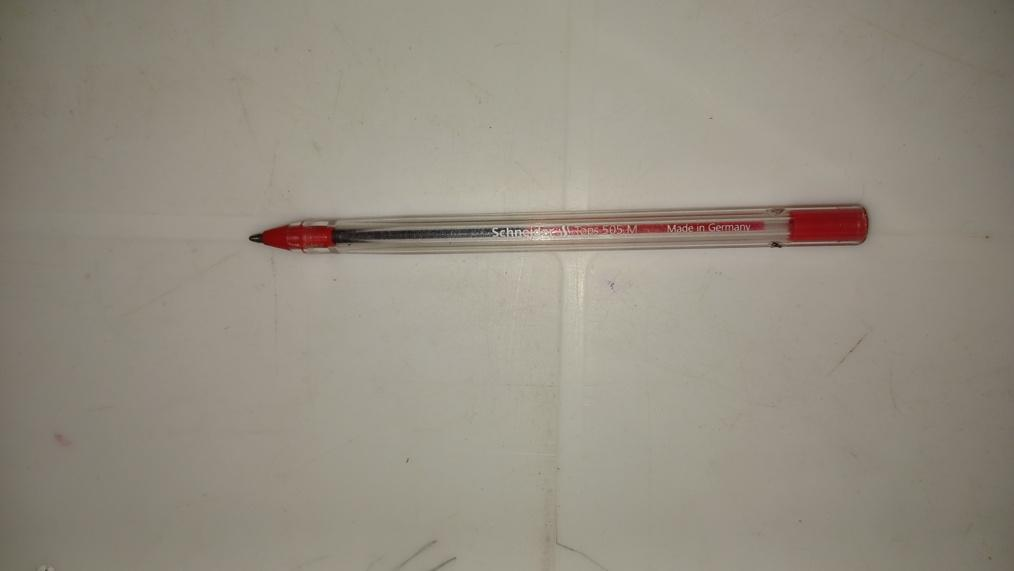pen: (248, 202, 867, 250)
